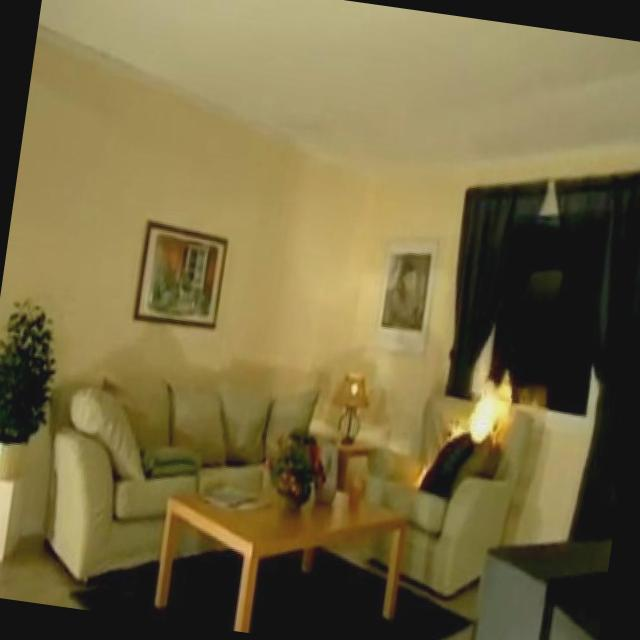fire: (396, 347, 540, 540)
